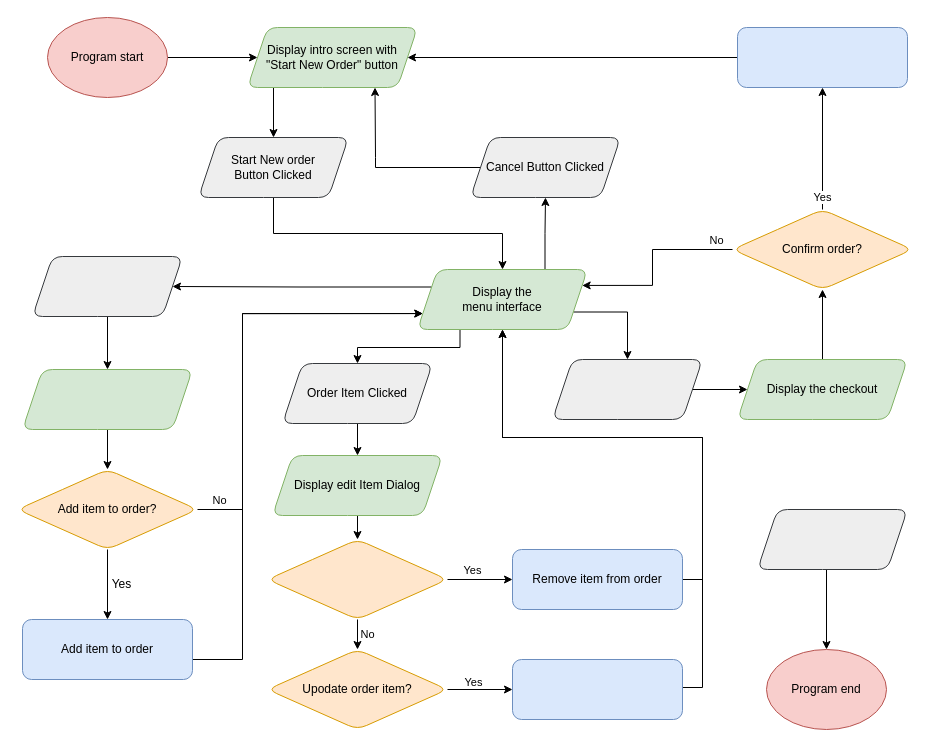
This 930x747 diagram has some shape labels left out. Each missing label, with the box of its shape:
Checkout Button Clicked: (552, 358, 702, 420)
Display Add Item Dialog: (22, 368, 192, 430)
Menu Item Clicked: (32, 256, 182, 316)
Print the receipt: (736, 26, 908, 88)
Remove item from order?: (266, 538, 448, 620)
Update order item: (512, 658, 682, 720)
Window Closed: (756, 508, 908, 570)
